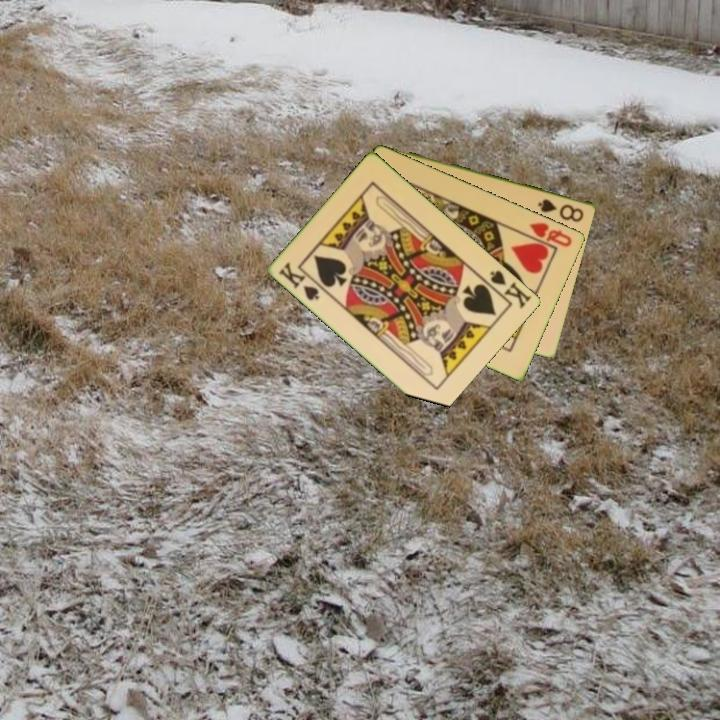8s: (534, 195, 587, 225)
Ks: (480, 267, 534, 311), (275, 258, 322, 303)
Qh: (526, 219, 575, 250)
